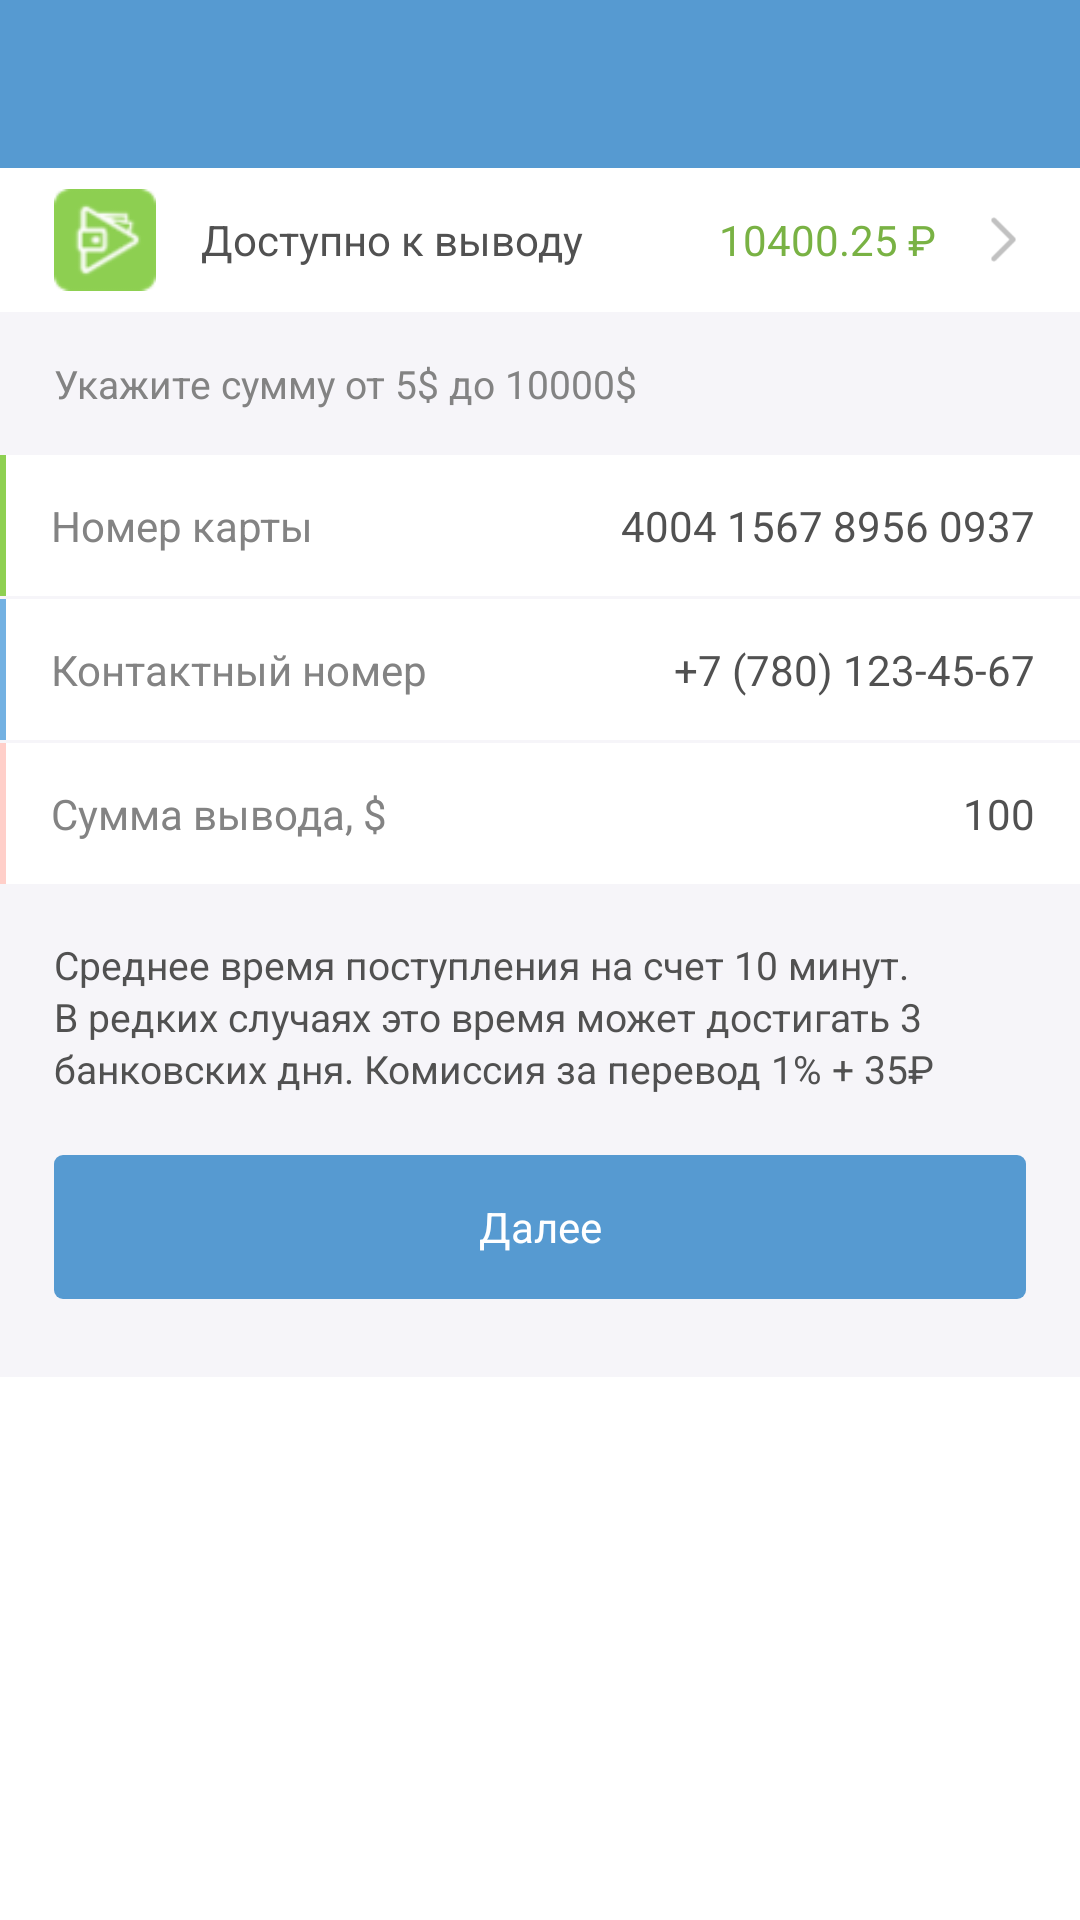

Icon click points for this 1080w x 1920h phone screenshot, format [x,y]:
balance: [105,240]
right arrow: [1003,239]
